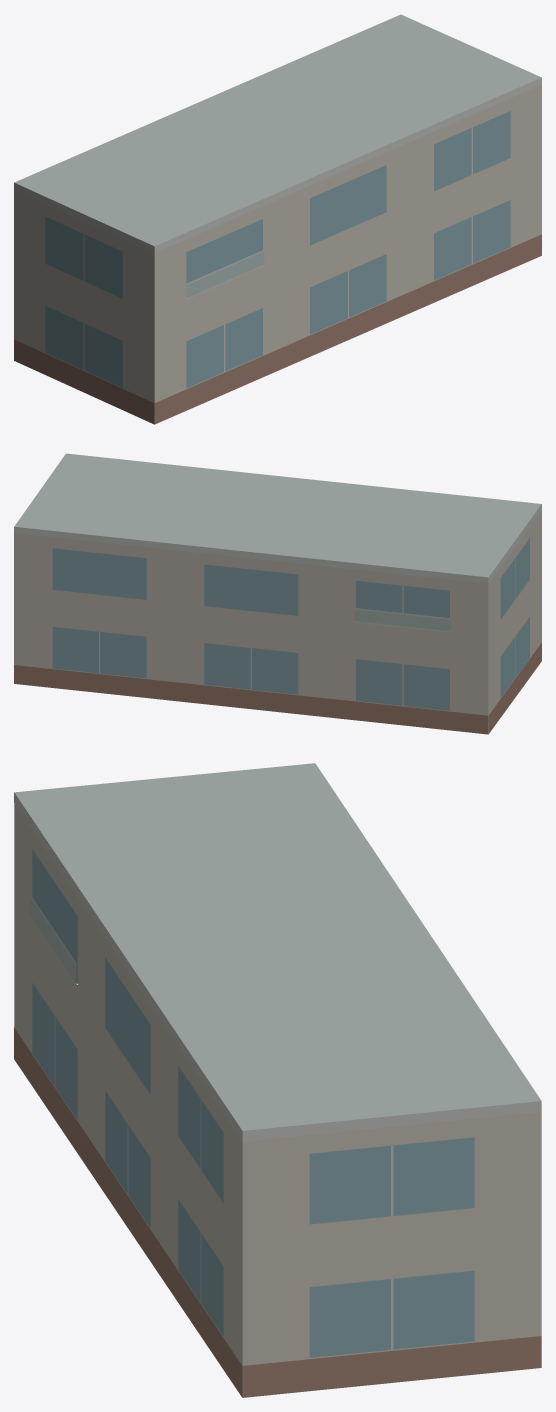
The model's file is survey-upis-32491191.glb.
The picture shows the model from 3 angles, top to bottom: view 1: azimuth 30°, elevation 25°; view 2: azimuth 150°, elevation 25°; view 3: azimuth 270°, elevation 25°; orthographic projection. The views are drawn at different scales.
Visible parts, largest first — view 1: survey-upis-32491191.tmp; view 2: survey-upis-32491191.tmp; view 3: survey-upis-32491191.tmp.
Boxes of the visible parts, <box> form: survey-upis-32491191.tmp: <box>14,14,541,424</box>; survey-upis-32491191.tmp: <box>14,453,541,734</box>; survey-upis-32491191.tmp: <box>14,763,541,1397</box>.
Bounding box in the file's own units: 18.05 × 6.1 × 10.94.
